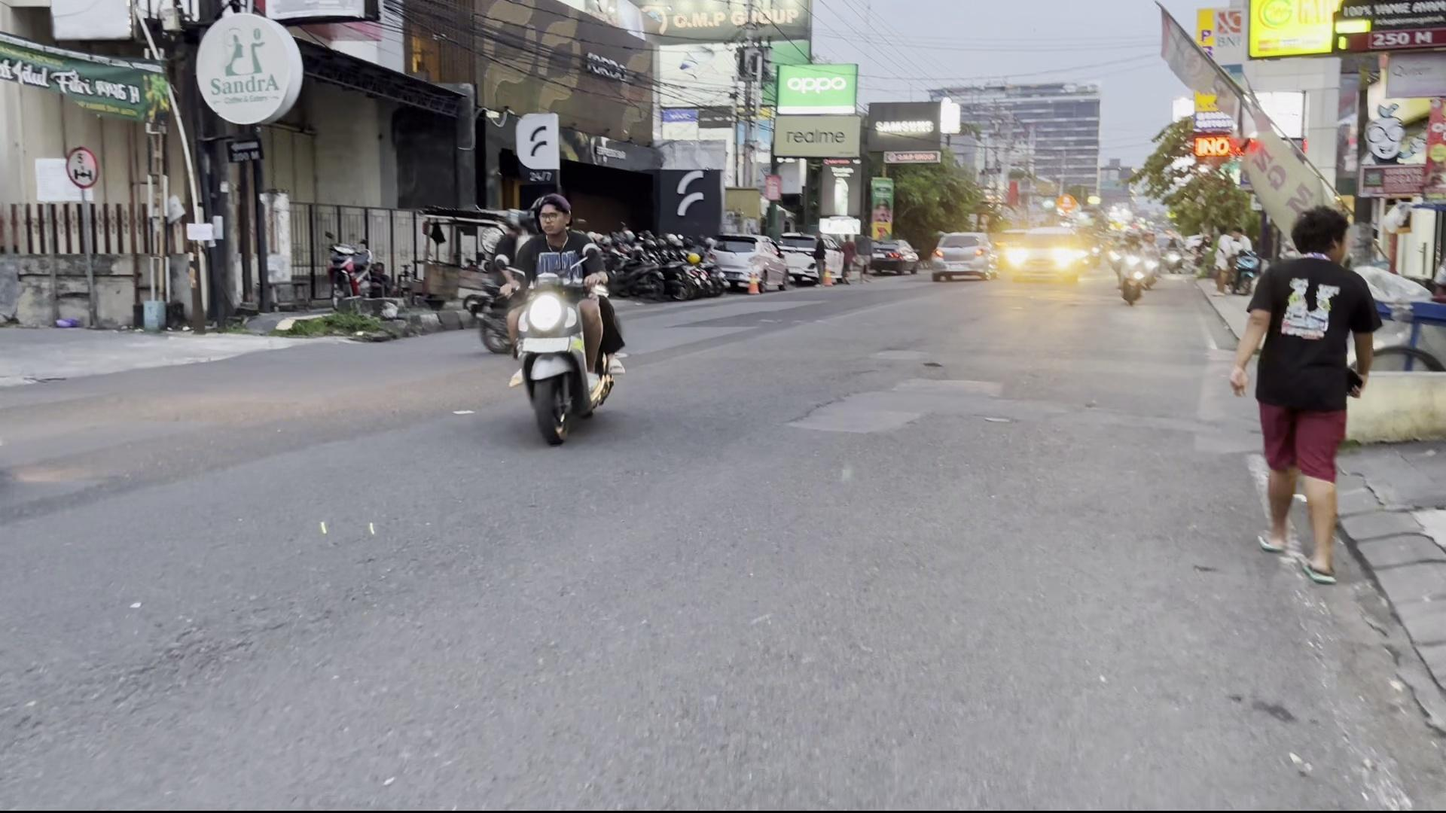nohelm: (536, 191, 576, 238)
riding: (492, 190, 633, 451)
